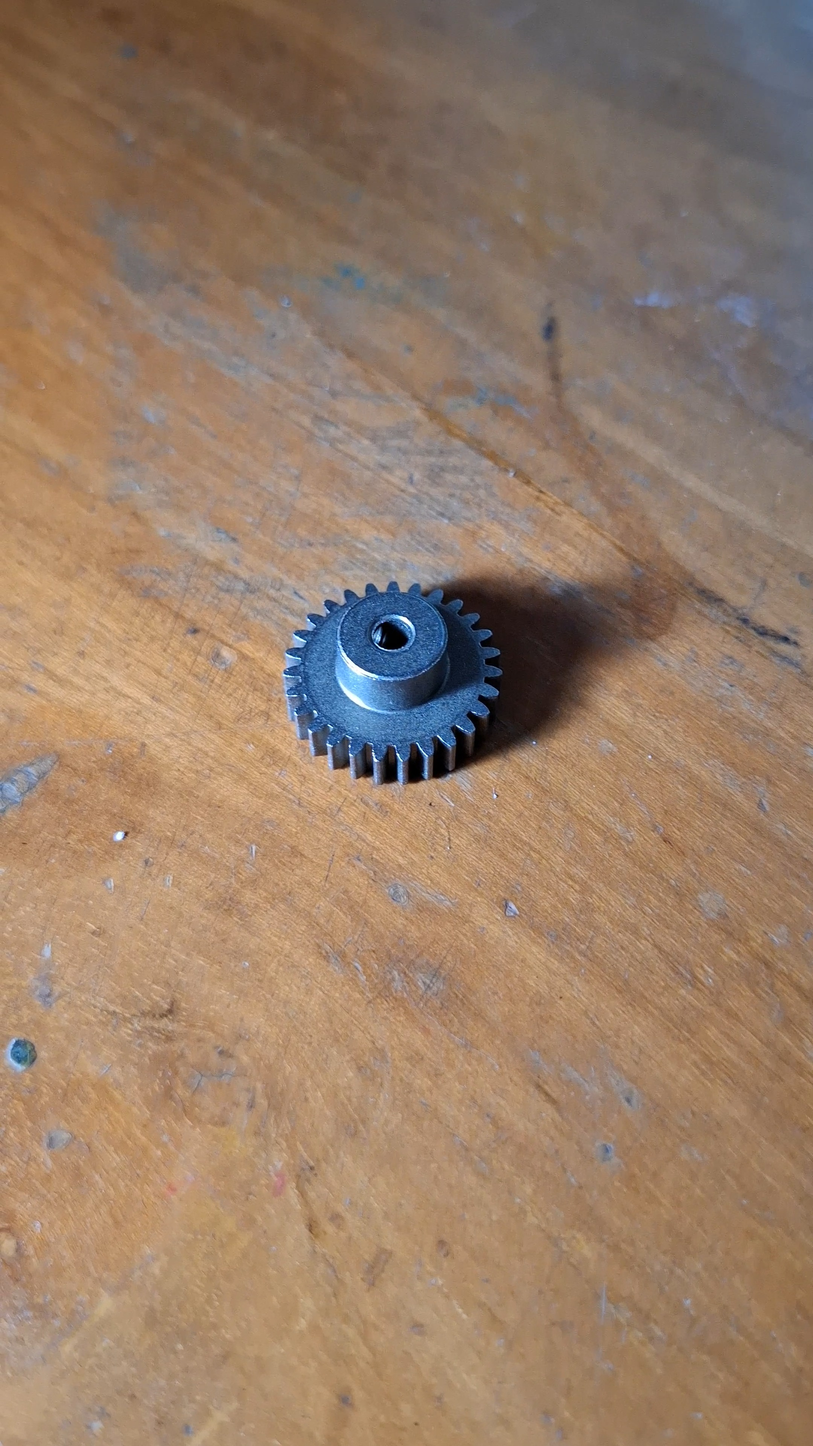spur gear: (297, 577, 518, 794), (283, 582, 501, 783)
